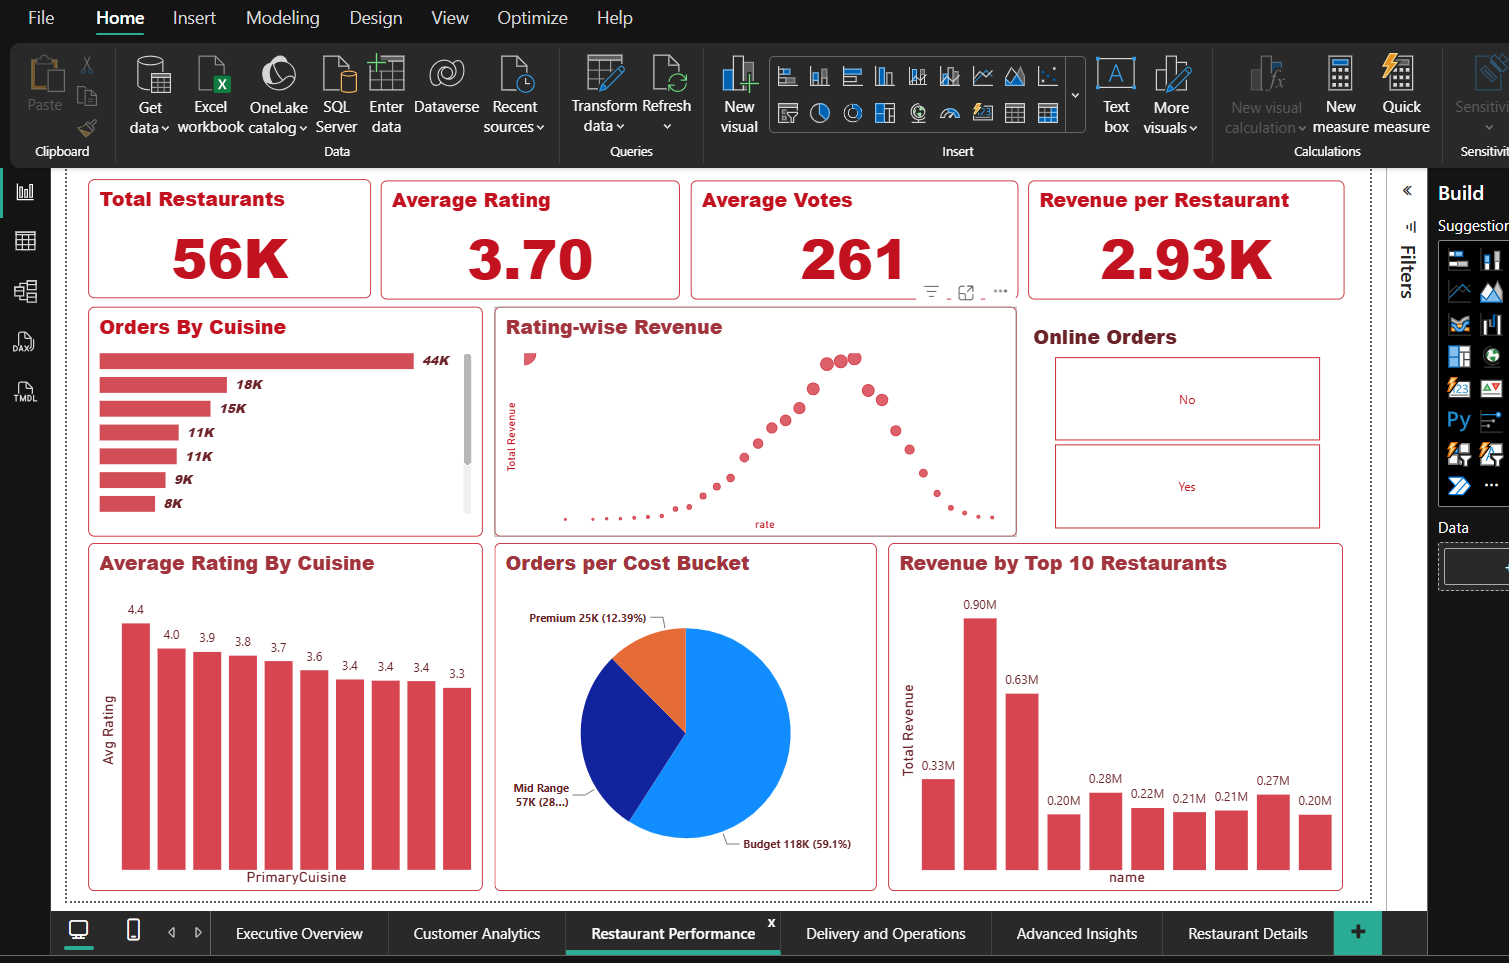

Layout of this report page (visuals, bound fields, positions):
{"tool":"powerbi","page":{"name":"Restaurant Performance","canvas":[1280,720],"ordinal":2},"visuals":[{"type":"card","title":"Total Restaurants","fields":{"Values":["Orders.Total Restaurants"]},"box":[21.4,11.4,277.9,117.1],"z":0},{"type":"card","title":"Average Rating","fields":{"Values":["Orders.Average Rating"]},"box":[308.3,11.7,293.3,116.7],"z":1000},{"type":"card","title":"Average Votes","fields":{"Values":["Orders.Average Votes"]},"box":[611.7,11.7,321.7,116.7],"z":2000},{"type":"card","title":"Revenue per Restaurant","fields":{"Values":["Orders.Revenue Per Restaurant"]},"box":[943.3,11.7,310,116.7],"z":3000},{"type":"barChart","title":"Orders By Cuisine","fields":{"Category":["Restaurants.PrimaryCuisine"],"Y":["Orders.Total Orders"]},"box":[21.4,135.7,387.1,225.7],"z":4000},{"type":"columnChart","title":"Revenue by Top 10 Restaurants","fields":{"Category":["Restaurants.name"],"Y":["Orders.Total Revenue"]},"box":[806.7,368.3,446.7,341.7],"z":5000},{"type":"columnChart","title":"Average Rating By Cuisine","fields":{"Category":["Restaurants.PrimaryCuisine"],"Y":["Orders.Avg Rating"]},"box":[21.4,368.6,387.1,341.4],"z":6000},{"type":"scatterChart","title":"Rating-wise Revenue","fields":{"X":["Restaurants.rate"],"Y":["Orders.Total Revenue"],"Size":["Orders.Total Orders"]},"box":[420,135.7,512.9,225.7],"z":7000},{"type":"pieChart","title":"Orders per Cost Bucket","fields":{"Category":["Restaurants.Cost_Bucket"],"Y":["Orders.Total Orders"]},"box":[420,368.3,375,341.7],"z":8000},{"type":"slicer","title":"Online Orders","fields":{"Values":["Restaurants.Online_Order 2"]},"box":[943.3,151.7,310,208.3],"z":9000}]}

Visuals, with their boxes on the page's 1280x720 design canvas (x1, y1, x2, y2). These are canvas units, not pixel positions in the 1509x963 screenshot, which may show the page scaled, cropped or inside an application window:
"Total Restaurants" card: (left=21, top=11, right=299, bottom=128)
"Average Rating" card: (left=308, top=12, right=602, bottom=128)
"Average Votes" card: (left=612, top=12, right=933, bottom=128)
"Revenue per Restaurant" card: (left=943, top=12, right=1253, bottom=128)
"Orders By Cuisine" barChart: (left=21, top=136, right=408, bottom=361)
"Revenue by Top 10 Restaurants" columnChart: (left=807, top=368, right=1253, bottom=710)
"Average Rating By Cuisine" columnChart: (left=21, top=369, right=408, bottom=710)
"Rating-wise Revenue" scatterChart: (left=420, top=136, right=933, bottom=361)
"Orders per Cost Bucket" pieChart: (left=420, top=368, right=795, bottom=710)
"Online Orders" slicer: (left=943, top=152, right=1253, bottom=360)
